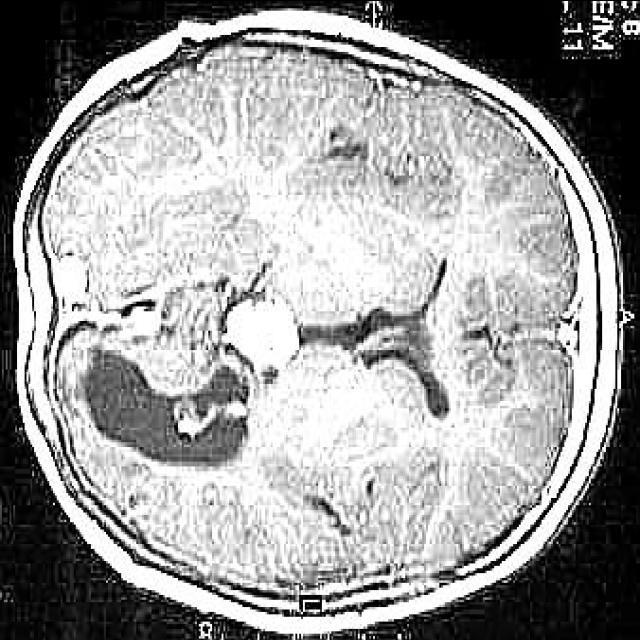tumor: (87, 281, 324, 461)
